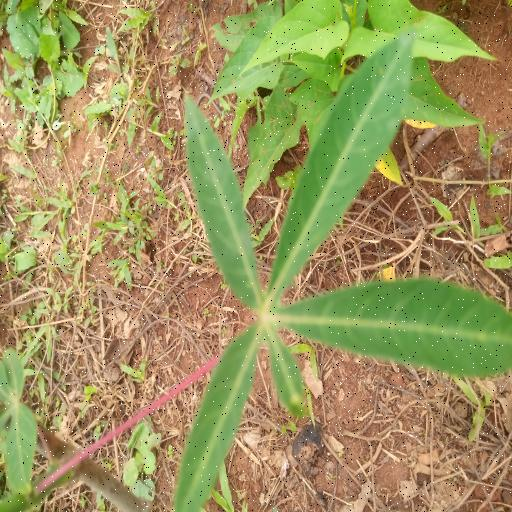Cassava_Healthy: (169, 33, 512, 512)
